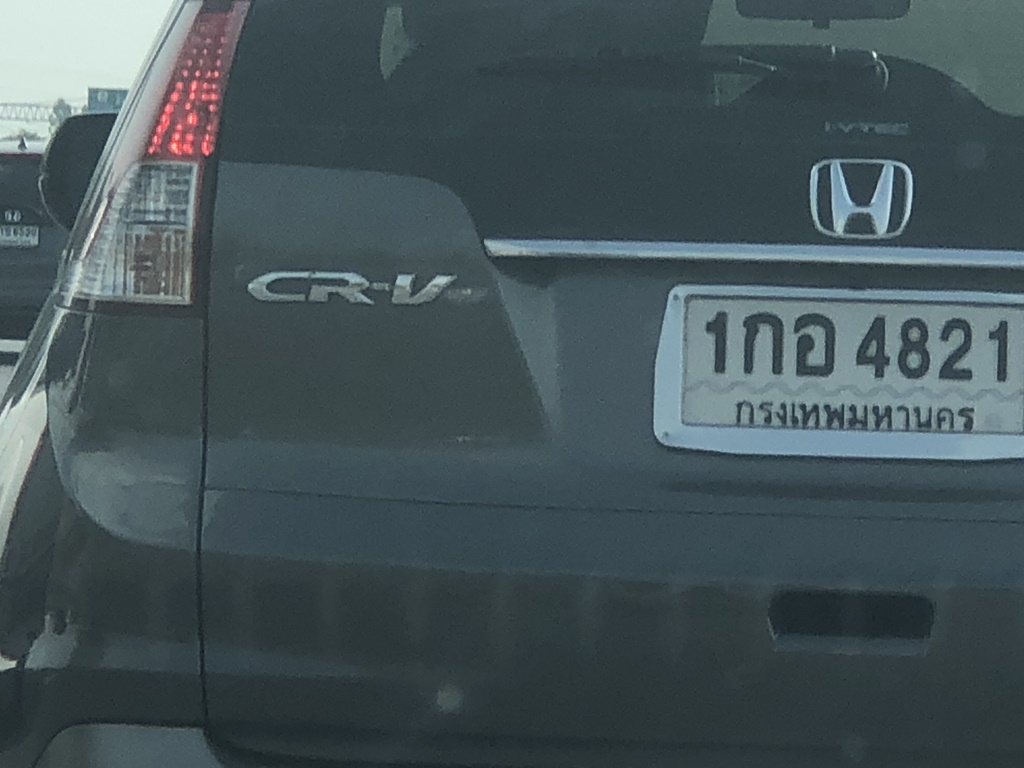eight: (892, 314, 936, 384)
four: (845, 303, 896, 395)
one: (689, 297, 740, 391), (975, 308, 1014, 396)
two: (931, 308, 975, 393)
